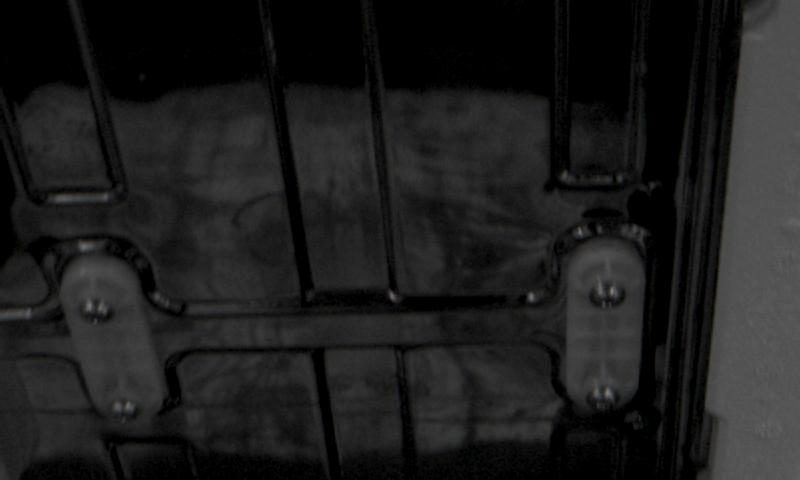vida-ok: (75, 284, 121, 328), (587, 270, 633, 313), (585, 370, 631, 409), (102, 388, 147, 427)
